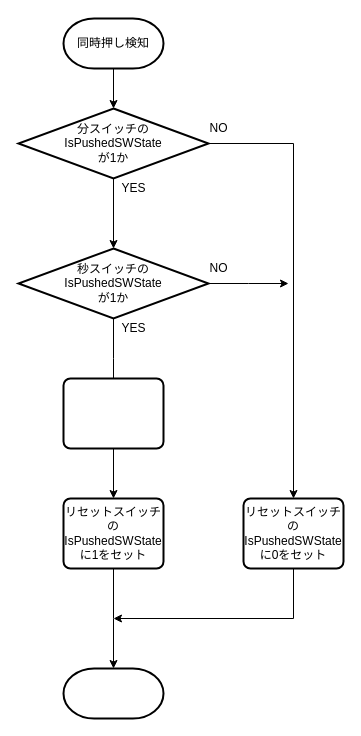
The diagram is 361 pixels wide and 736 high, and some of its shapes have lost their labels. The centre of each missing label's shape, as x and y in pixels:
"end" belongs at [113,693].
"分スイッチと秒スイッチの IsPushedSWState を0にクリア" belongs at [113,413].
